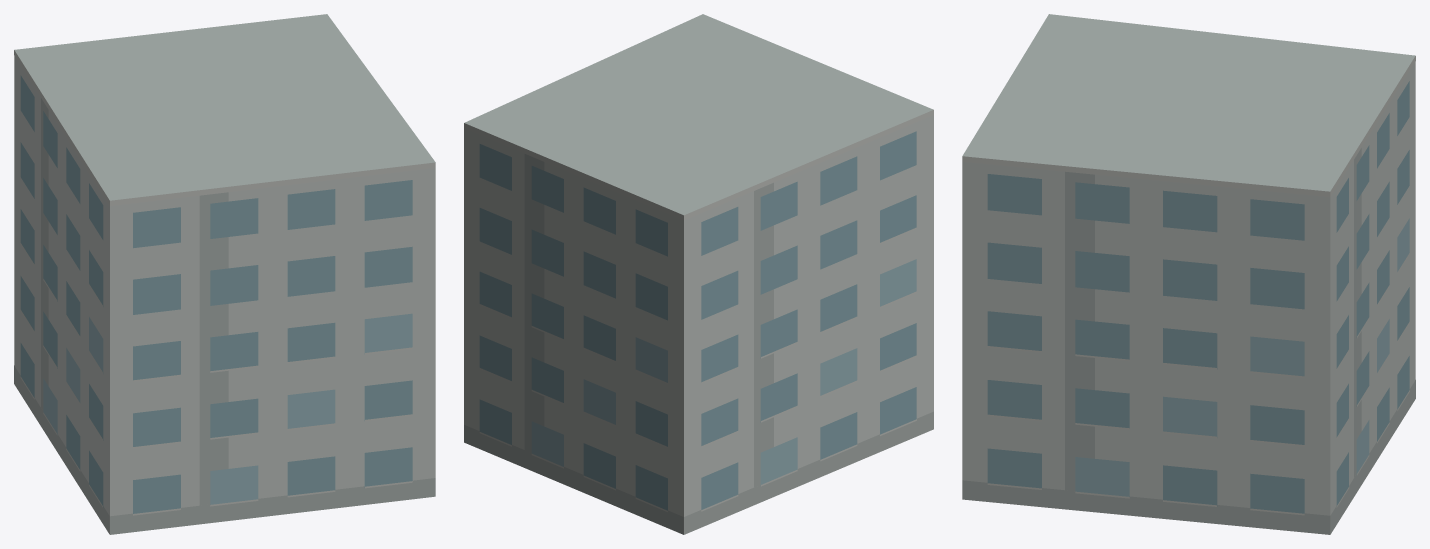
Rendered from survey-upis-32831630.glb.
3 views of the same model, side by side, from view 1: azimuth 30°, elevation 25°; view 2: azimuth 150°, elevation 25°; view 3: azimuth 270°, elevation 25° (orthographic). The views are drawn at different scales.
Visible parts, largest first — view 1: survey-upis-32831630.tmp; view 2: survey-upis-32831630.tmp; view 3: survey-upis-32831630.tmp.
Part boxes in pixels (<box>): survey-upis-32831630.tmp: <box>14,14,435,534</box>; survey-upis-32831630.tmp: <box>464,14,933,534</box>; survey-upis-32831630.tmp: <box>962,14,1415,534</box>.
Bounding box in the file's own units: 16.38 × 14.75 × 17.67.
